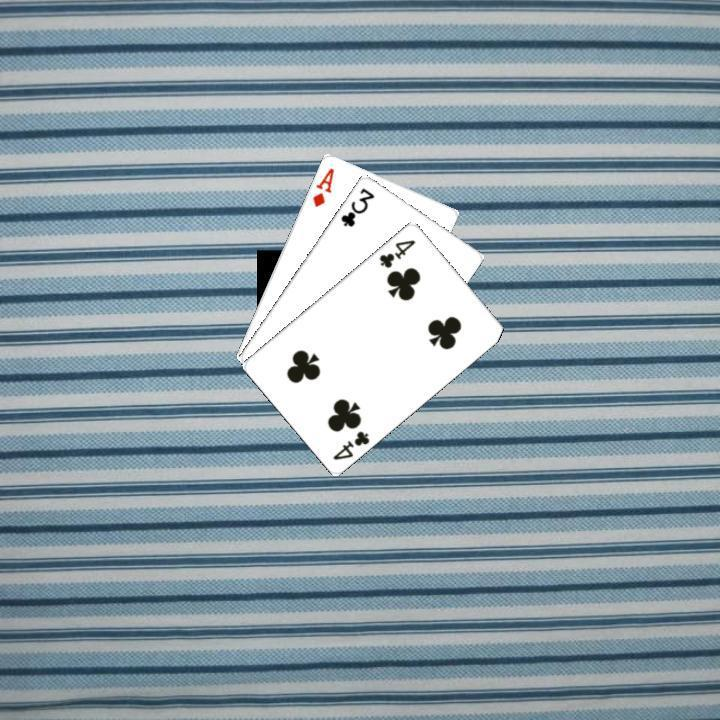3: (336, 183, 376, 229)
4: (328, 426, 372, 462), (374, 235, 417, 270)
A: (308, 163, 336, 209)
